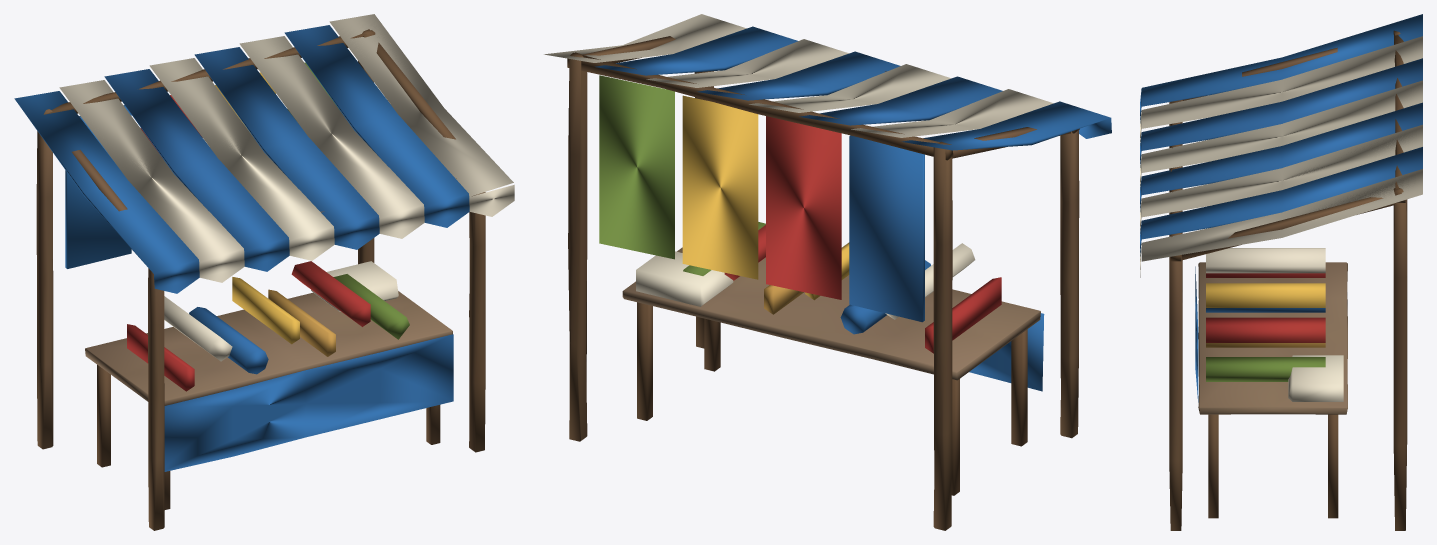
File: biz_stall_t1_cloth.glb
The picture shows the model from 3 angles, left to right: view 1: azimuth 30°, elevation 25°; view 2: azimuth 150°, elevation 25°; view 3: azimuth 270°, elevation 25°; orthographic projection. The views are drawn at different scales.
Parts seen in each view (by area): view 1: cloth_azure, cloth_cream, wood_dark, wood, cloth_red, cloth_gold, cloth_olive, cloth_ochre; view 2: cloth_azure, wood_dark, cloth_cream, cloth_red, wood, cloth_gold, cloth_olive, cloth_ochre; view 3: cloth_cream, cloth_azure, wood_dark, wood, cloth_red, cloth_gold, cloth_olive, cloth_ochre.
Part boxes in pixels (<box>): cloth_azure: <box>14,25,469,471</box>; cloth_cream: <box>59,14,514,361</box>; wood_dark: <box>36,29,485,530</box>; wood: <box>85,291,452,405</box>; cloth_red: <box>127,95,370,391</box>; cloth_gold: <box>215,72,299,344</box>; cloth_olive: <box>287,62,409,339</box>; cloth_ochre: <box>268,289,335,356</box>; cloth_azure: <box>595,26,1111,391</box>; wood_dark: <box>567,36,1079,530</box>; cloth_cream: <box>544,14,1053,319</box>; cloth_red: <box>724,116,1001,353</box>; wood: <box>622,247,1040,380</box>; cloth_gold: <box>682,95,849,300</box>; cloth_olive: <box>599,75,765,275</box>; cloth_ochre: <box>764,285,803,314</box>; cloth_cream: <box>1140,36,1422,401</box>; cloth_azure: <box>1140,14,1422,402</box>; wood_dark: <box>1169,30,1407,530</box>; wood: <box>1198,262,1347,414</box>; cloth_red: <box>1206,273,1325,342</box>; cloth_gold: <box>1206,283,1325,307</box>; cloth_olive: <box>1206,357,1325,381</box>; cloth_ochre: <box>1206,343,1325,347</box>.
Bounding box in the file's own units: 2.8 × 2.56 × 1.89.
